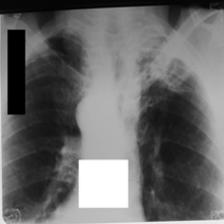tuberculosis: (2, 21, 223, 224)
